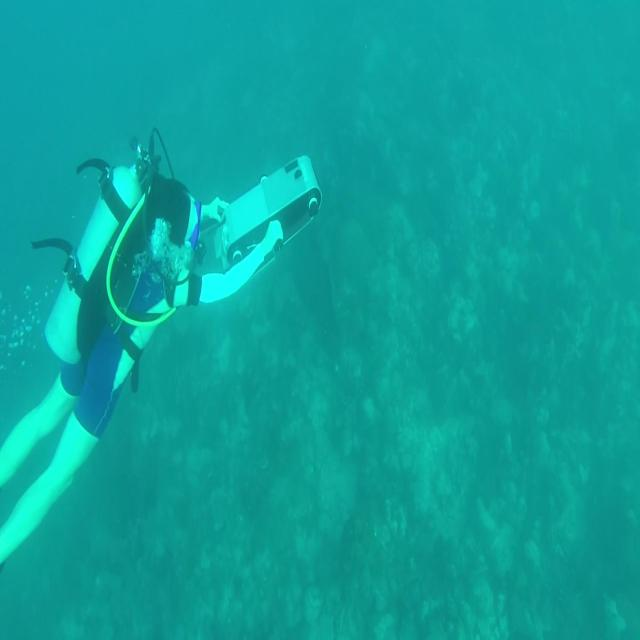human: (1, 132, 321, 570)
